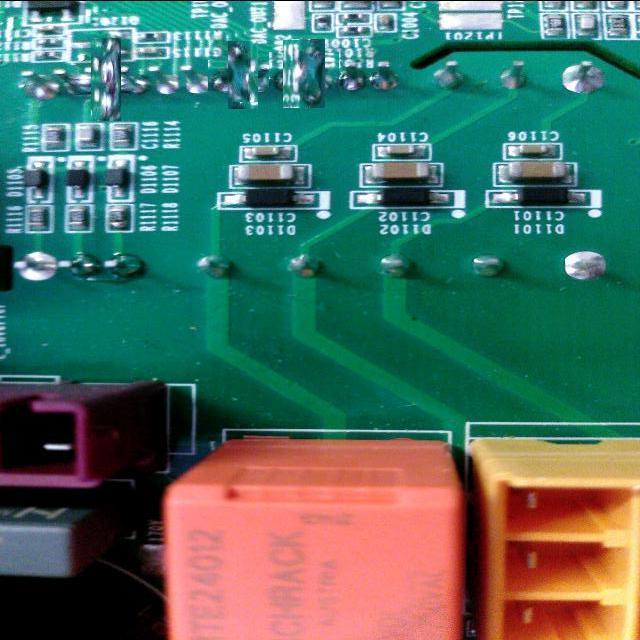Short_circuit: (78, 51, 134, 107), (276, 46, 332, 101), (218, 51, 267, 100)
